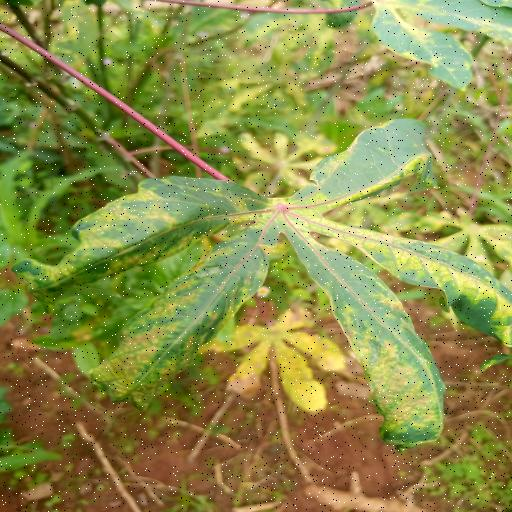Cassava_Mosaic: (12, 113, 512, 443)
